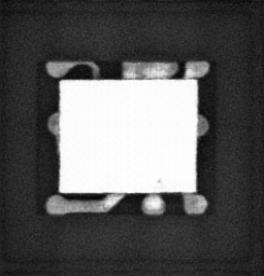DIE_INK: (154, 176, 164, 185)
